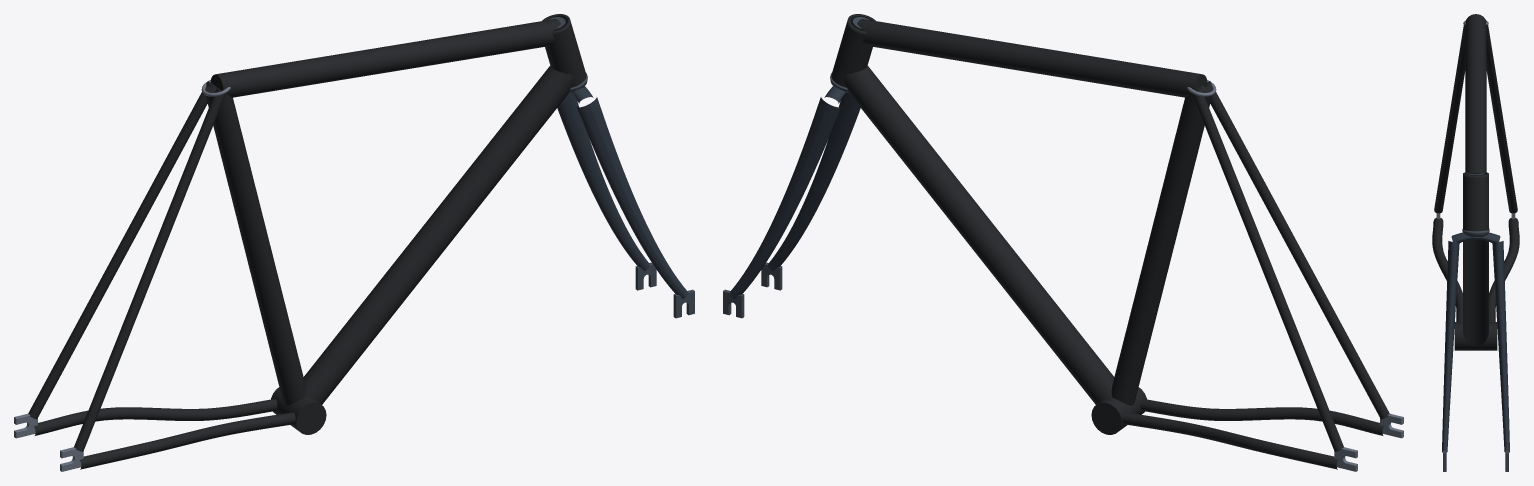
Rendered from dosnoventa-03-det-s.glb.
3 views of the same model, side by side, from view 1: azimuth 30°, elevation 25°; view 2: azimuth 150°, elevation 25°; view 3: azimuth 270°, elevation 25° (orthographic). The views are drawn at different scales.
Parts seen in each view (by area): view 1: paint_down, paint_top, paint_seat, paint_seatstay_1, paint_seatstay_-1, fork_blade_1, fork_blade_-1, paint_chainstay_-1, paint_chainstay_1, paint_head, paint_bottom_bracket; view 2: paint_down, paint_top, paint_seat, paint_seatstay_-1, paint_seatstay_1, fork_blade_-1, fork_blade_1, paint_chainstay_1, paint_chainstay_-1, paint_head, paint_bottom_bracket; view 3: paint_top, paint_down, fork_blade_1, fork_blade_-1, paint_seatstay_-1, paint_seatstay_1, paint_head, paint_chainstay_-1, paint_chainstay_1, paint_bottom_bracket, fork_crown, fork_headset_lower.
Boxes of the visible parts, x1=… form: paint_down: x1=303, y1=66, x2=575, y2=404; paint_top: x1=210, y1=19, x2=560, y2=97; paint_seat: x1=205, y1=84, x2=306, y2=405; paint_seatstay_1: x1=74, y1=88, x2=225, y2=451; paint_seatstay_-1: x1=28, y1=81, x2=213, y2=419; fork_blade_1: x1=576, y1=97, x2=687, y2=298; fork_blade_-1: x1=557, y1=92, x2=649, y2=270; paint_chainstay_-1: x1=34, y1=399, x2=277, y2=435; paint_chainstay_1: x1=80, y1=412, x2=295, y2=469; paint_head: x1=542, y1=14, x2=586, y2=87; paint_bottom_bracket: x1=271, y1=387, x2=326, y2=434; paint_down: x1=842, y1=66, x2=1114, y2=404; paint_top: x1=857, y1=19, x2=1207, y2=97; paint_seat: x1=1111, y1=84, x2=1212, y2=405; paint_seatstay_-1: x1=1192, y1=88, x2=1343, y2=451; paint_seatstay_1: x1=1204, y1=81, x2=1389, y2=419; fork_blade_-1: x1=730, y1=97, x2=841, y2=298; fork_blade_1: x1=768, y1=92, x2=860, y2=270; paint_chainstay_1: x1=1140, y1=399, x2=1383, y2=435; paint_chainstay_-1: x1=1122, y1=412, x2=1337, y2=469; paint_head: x1=831, y1=14, x2=875, y2=87; paint_bottom_bracket: x1=1091, y1=387, x2=1146, y2=434; paint_top: x1=1465, y1=14, x2=1486, y2=173; paint_down: x1=1463, y1=239, x2=1488, y2=346; fork_blade_1: x1=1442, y1=241, x2=1459, y2=452; fork_blade_-1: x1=1492, y1=241, x2=1509, y2=452; paint_seatstay_-1: x1=1486, y1=20, x2=1517, y2=213; paint_seatstay_1: x1=1434, y1=20, x2=1465, y2=213; paint_head: x1=1463, y1=172, x2=1488, y2=231; paint_chainstay_-1: x1=1489, y1=217, x2=1519, y2=321; paint_chainstay_1: x1=1432, y1=217, x2=1462, y2=321; paint_bottom_bracket: x1=1454, y1=322, x2=1497, y2=350; fork_crown: x1=1451, y1=232, x2=1500, y2=243; fork_headset_lower: x1=1462, y1=228, x2=1489, y2=237.
Size of the model in its own units: 0.9642 by 0.5348 by 0.1399.
